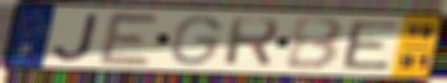B: (283, 16, 348, 72)
E: (96, 10, 163, 68), (341, 20, 402, 72)
G: (168, 14, 224, 68)
J: (51, 12, 102, 63)
R: (221, 16, 282, 69)
